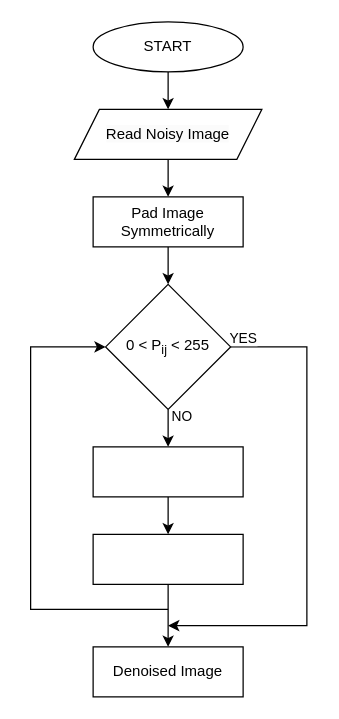
The diagram is 339 pixels wide and 719 high, and some of its shapes have lost their labels. The shapes that lost their labels are listed below. From the top down, each one's centre as x and y in pixels, then its label:
the point at 167,471: Select a 3x3 Window around it
the point at 167,558: Calculate Mean
